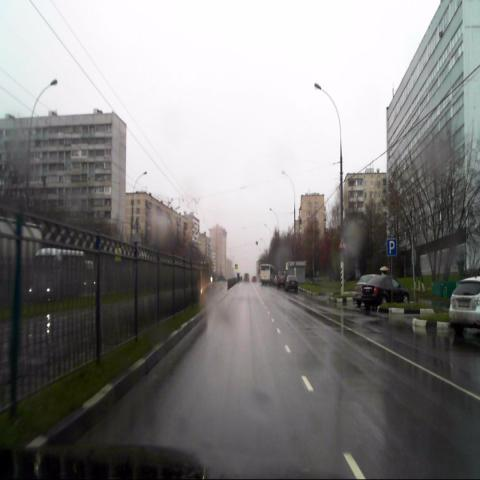6_4: (387, 238, 396, 255)
